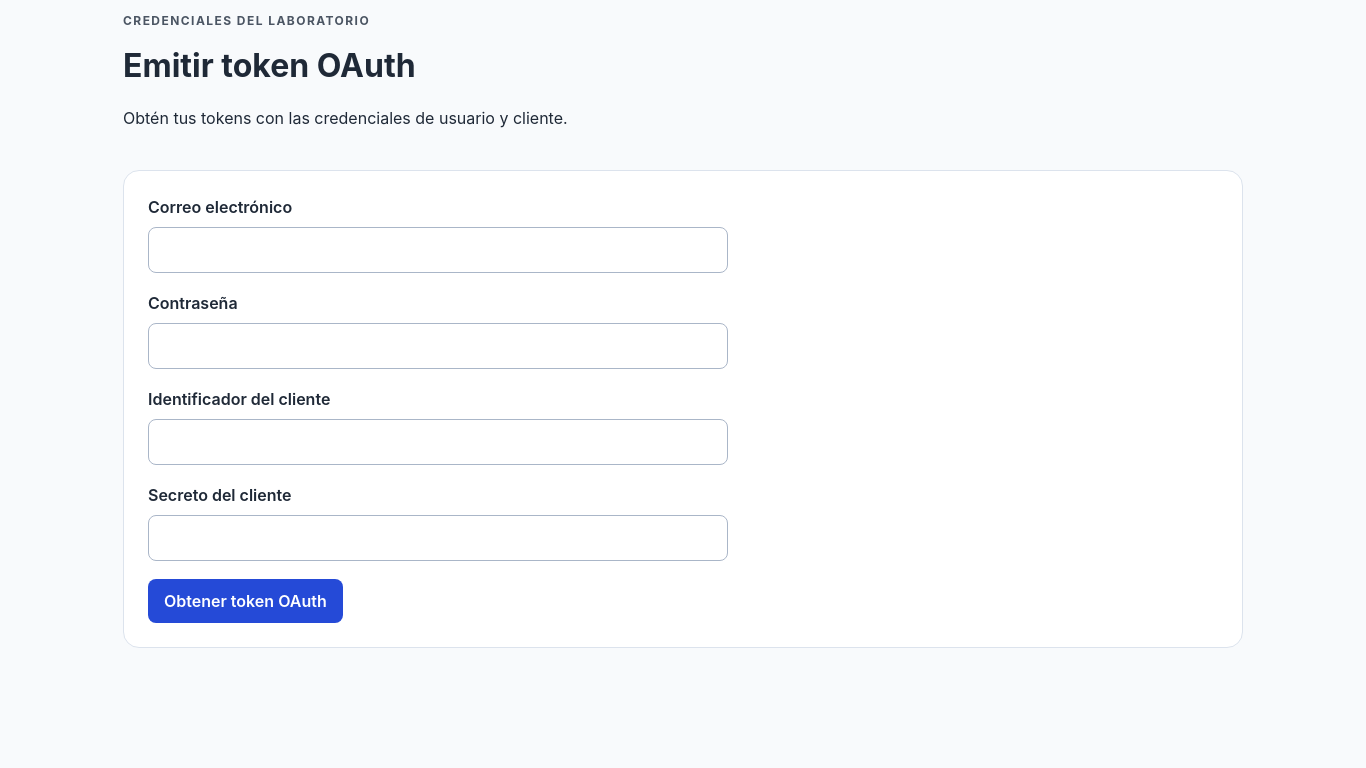
Scenario: SCRUM-41 y SCRUM-43 › muestra errores específicos para los cuatro campos vacíos
Click the button "Obtener token OAuth".
click(245, 601)  # box 148,579 -> 343,623
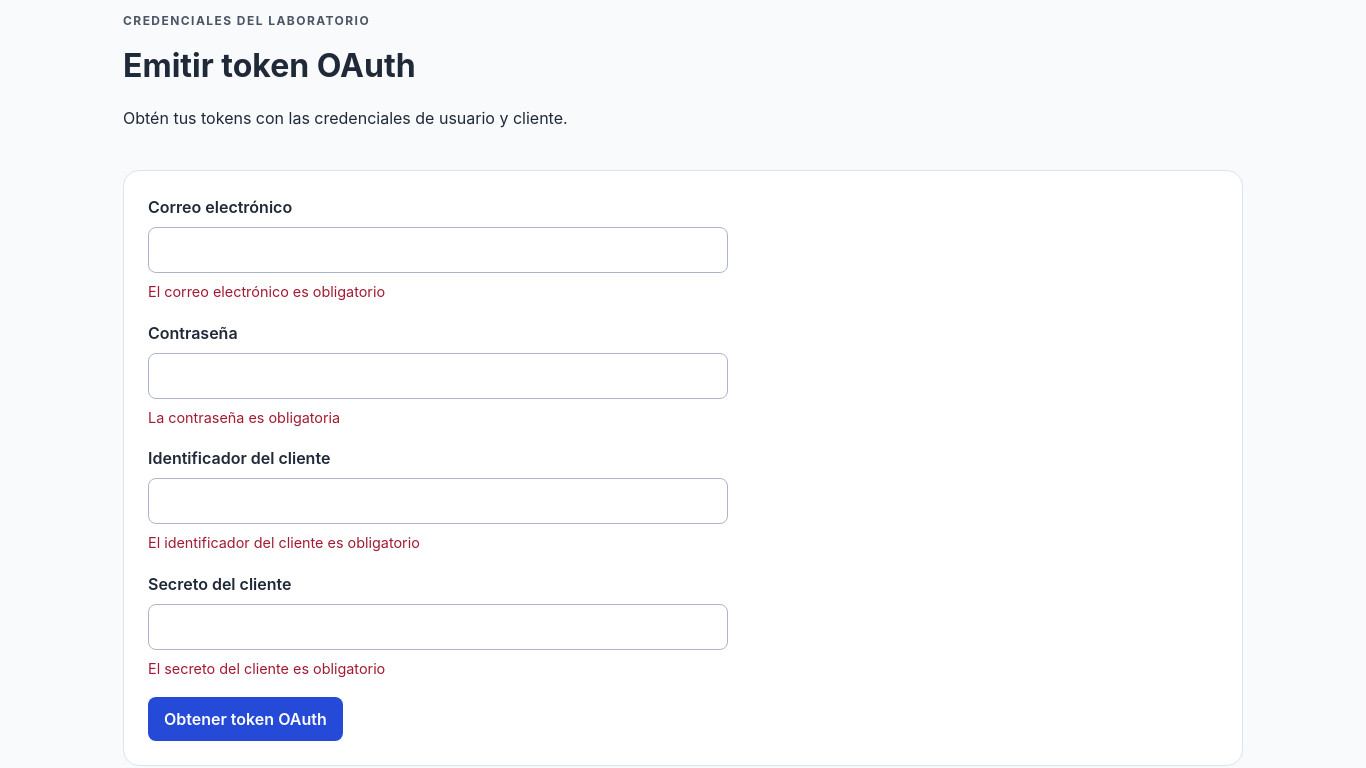
Expected: the text "El correo electrónico es obligatorio" is shown, 148,283 -> 385,300
Expected: the text "La contraseña es obligatoria" is shown, 148,409 -> 340,426
Expected: the text "El identificador del cliente es obligatorio" is shown, 148,534 -> 420,551
